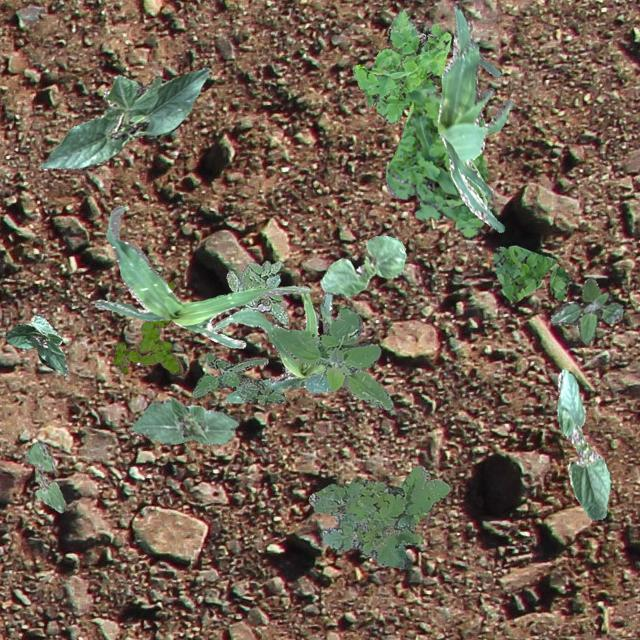crop: (94, 204, 308, 346), (36, 65, 208, 168), (437, 3, 512, 230), (210, 292, 332, 402), (556, 368, 610, 518), (318, 234, 406, 296), (130, 396, 236, 444), (5, 312, 68, 373), (24, 439, 66, 512)
weed: (384, 82, 486, 238), (307, 464, 448, 568), (272, 304, 392, 408), (352, 8, 449, 124), (112, 280, 182, 374), (190, 351, 284, 404), (550, 276, 622, 342), (492, 244, 572, 302), (225, 260, 288, 324)
